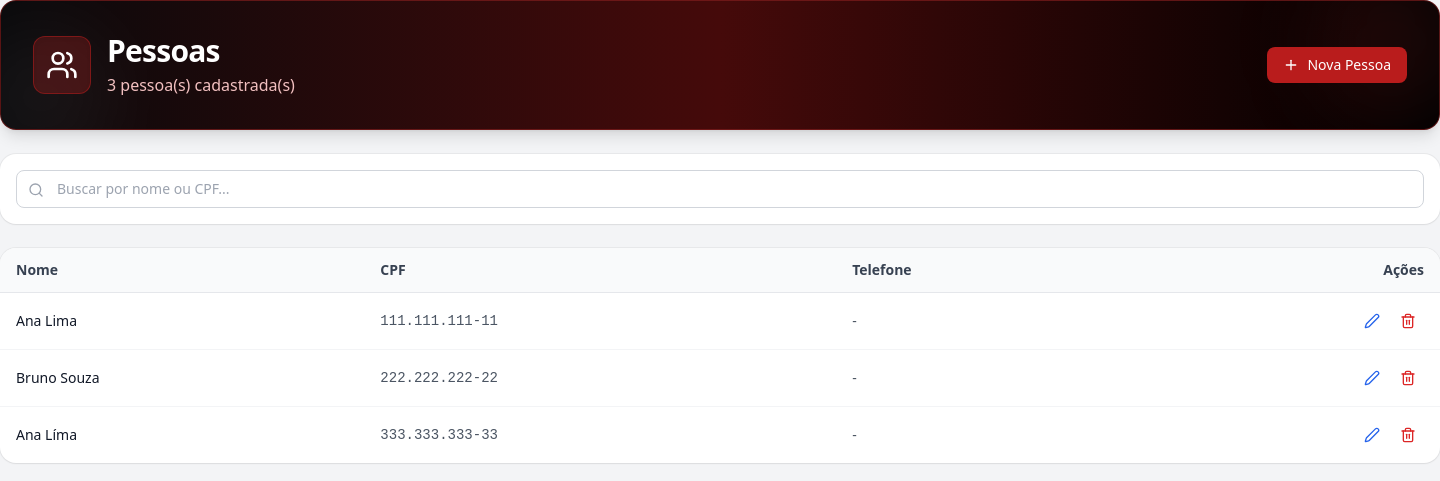
Test: Pessoas busca › filtra por nome ignorando acentos
In the field with placeholder "Buscar por nome ou CPF...": (720, 189) [16,170,1424,208], type "ana lima"
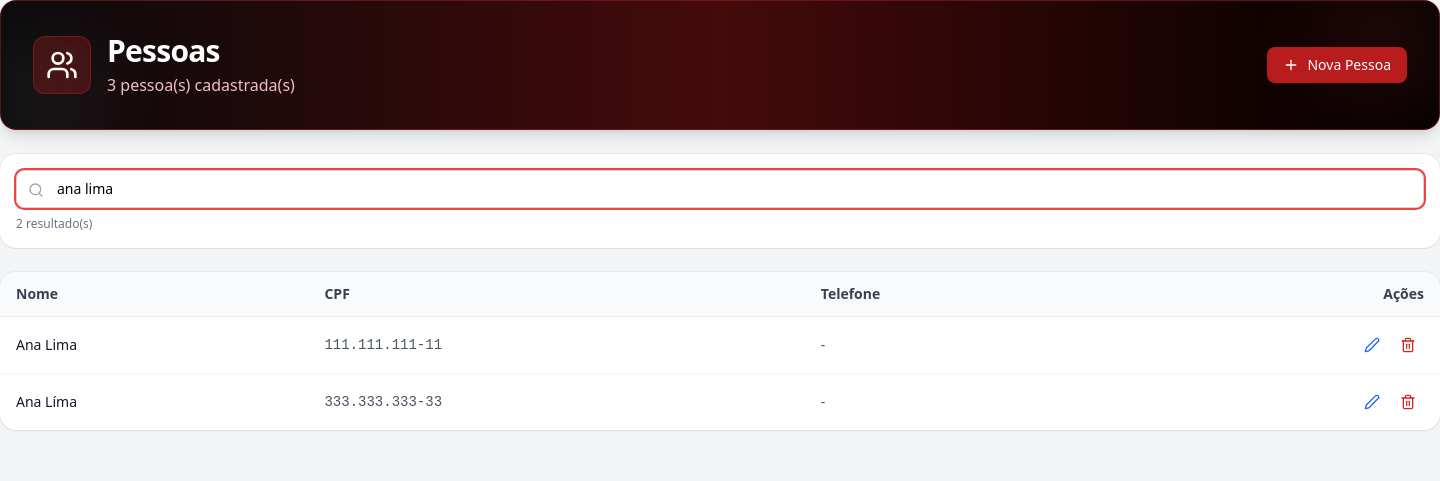
Check: the text "2 resultado(s)" is shown, box [16,215,92,232]
Check: the text "Ana Lima" is shown 2 times
Check: the text "Ana Líma" is shown 2 times
